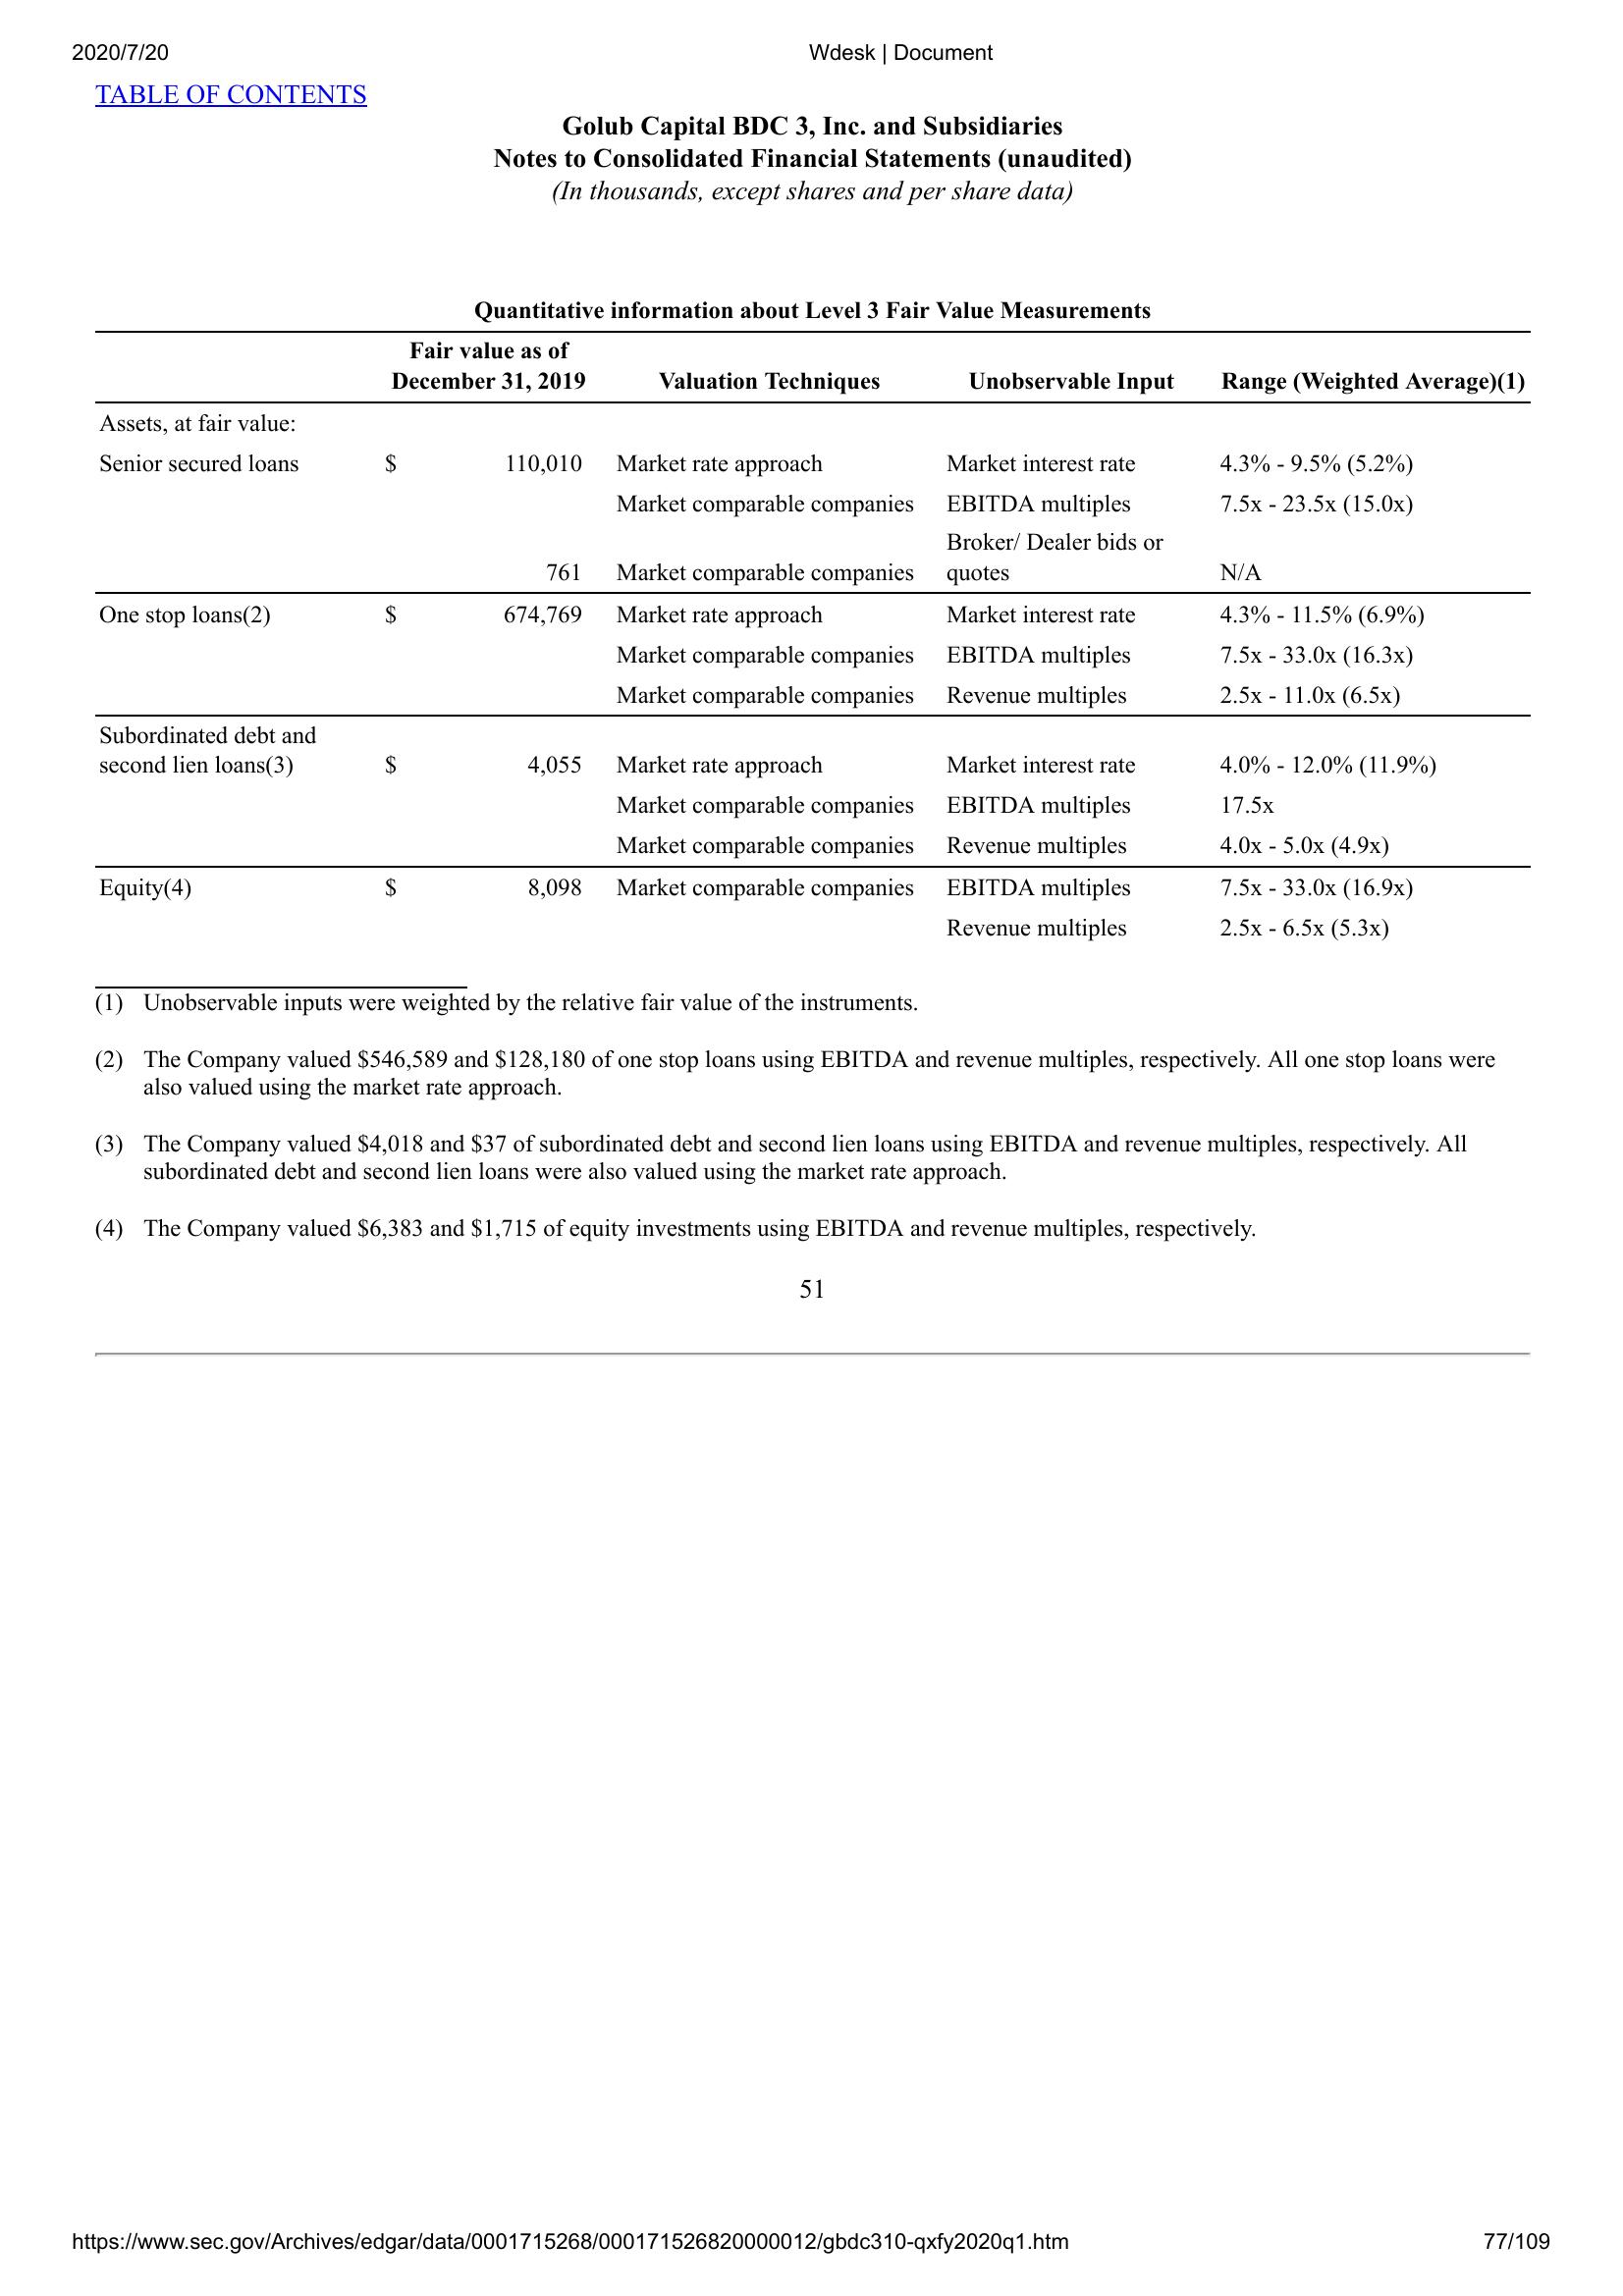table: (77, 291, 1535, 941)
